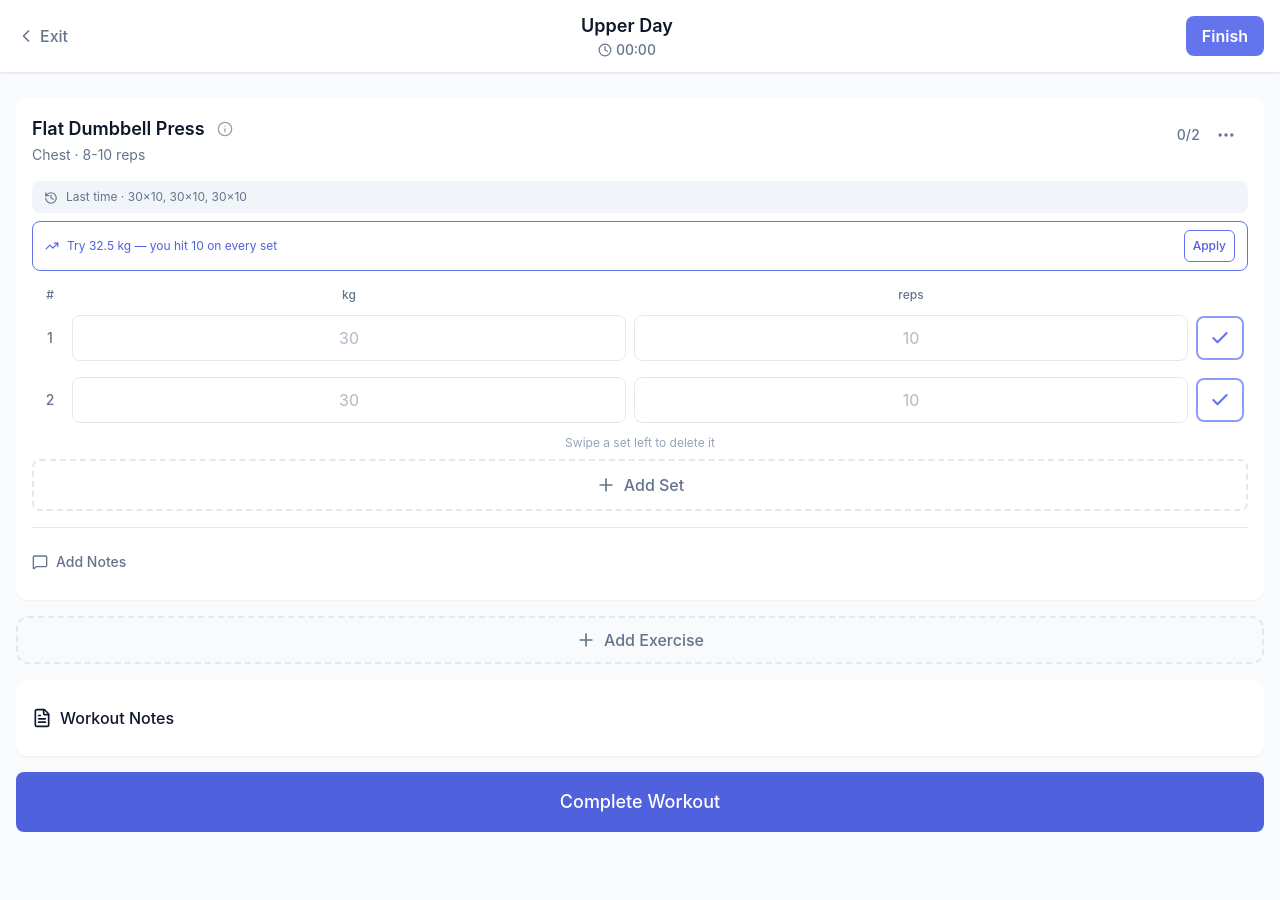
it: ActiveWorkoutPage suggestions › shows form cues and a video link
expect the text "Last time · 30×10, 30×10, 30×10" is shown: met, box [66,189,247,205]
Click the button named "How to do Flat Dumbbell Press" at [225, 129], box [209,113,241,145]
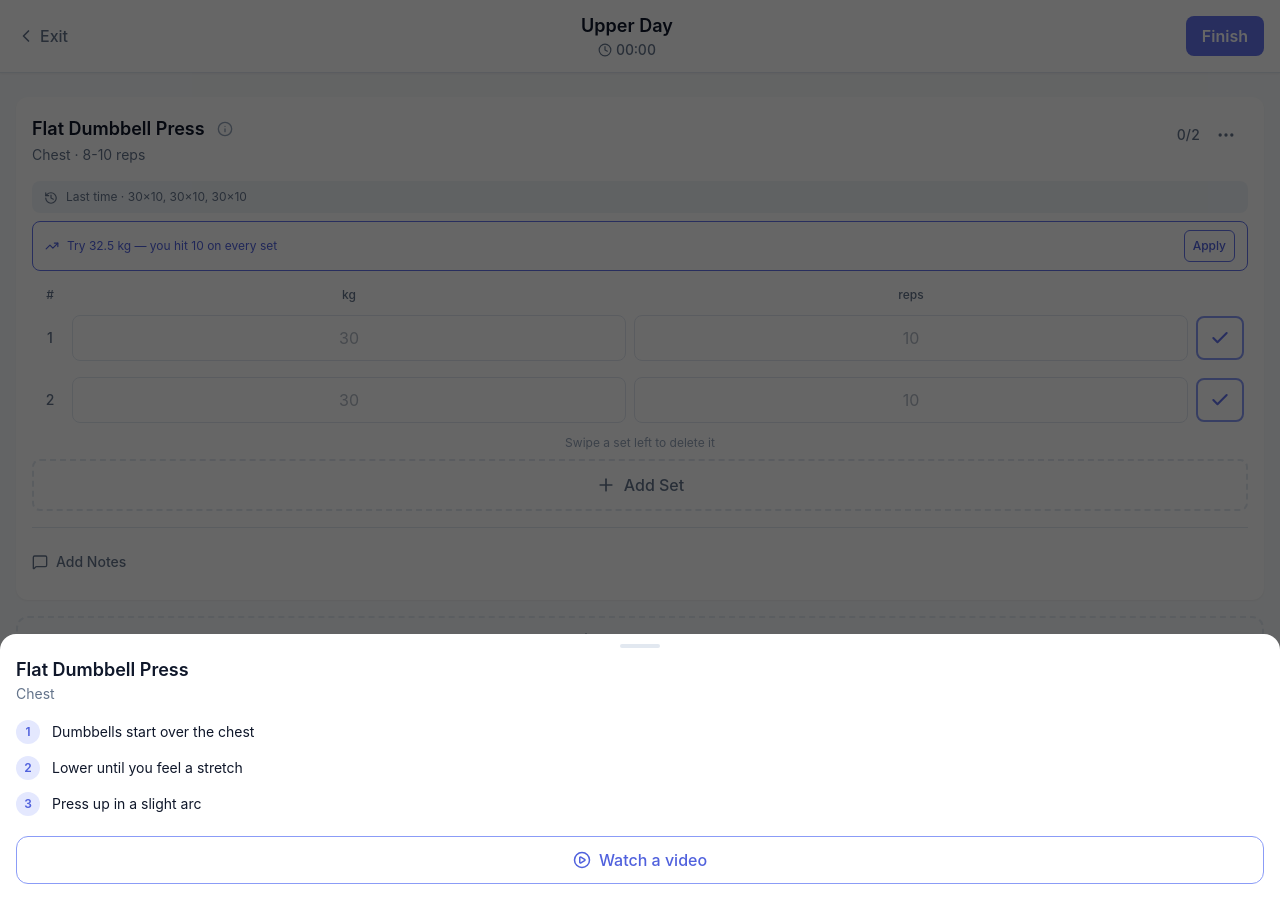
expect the text "Lower until you feel a stretch" is shown: met, box [52,756,243,780]
